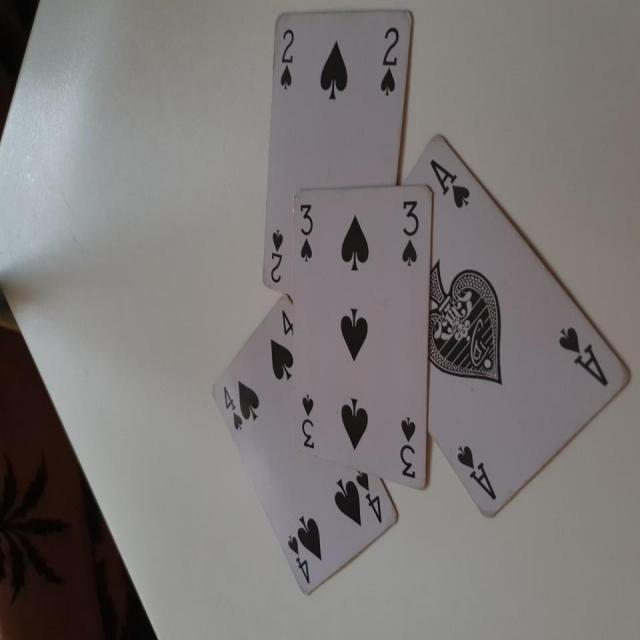2 Spades: (263, 8, 414, 298)
3 Spades: (286, 185, 427, 490)
4 Spades: (212, 296, 395, 600)
A Spades: (377, 132, 617, 512)
